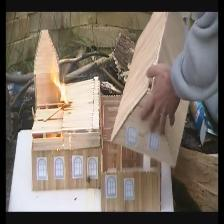fire: (51, 70, 66, 102)
